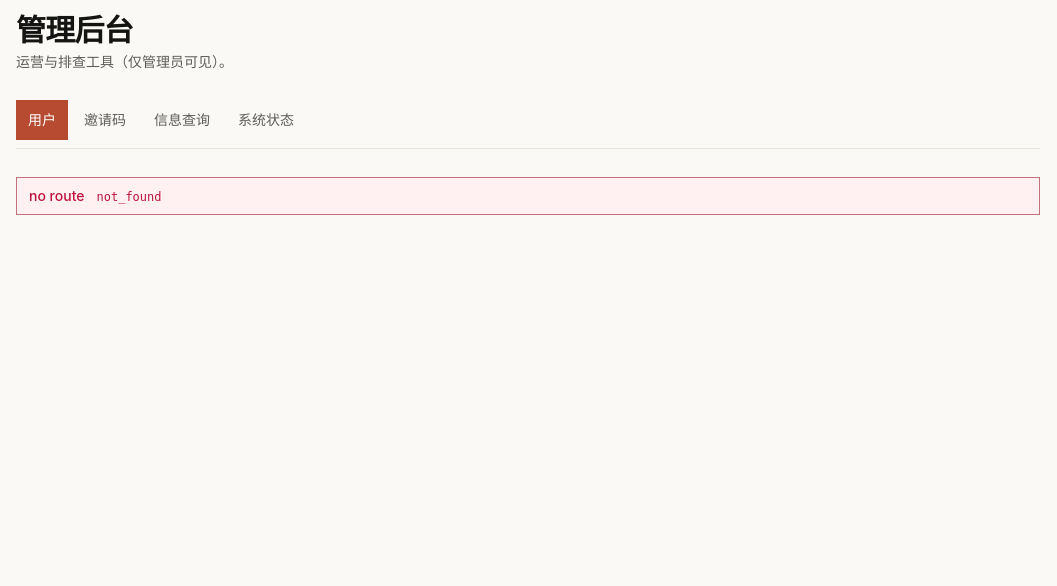
Test: 管理员后台（TASK-110 §1.6 改版） › 读不到主机内存时如实说明原因（不显示 0）
Click the button "系统状态": (266, 120) left=226, top=100, right=306, bottom=140
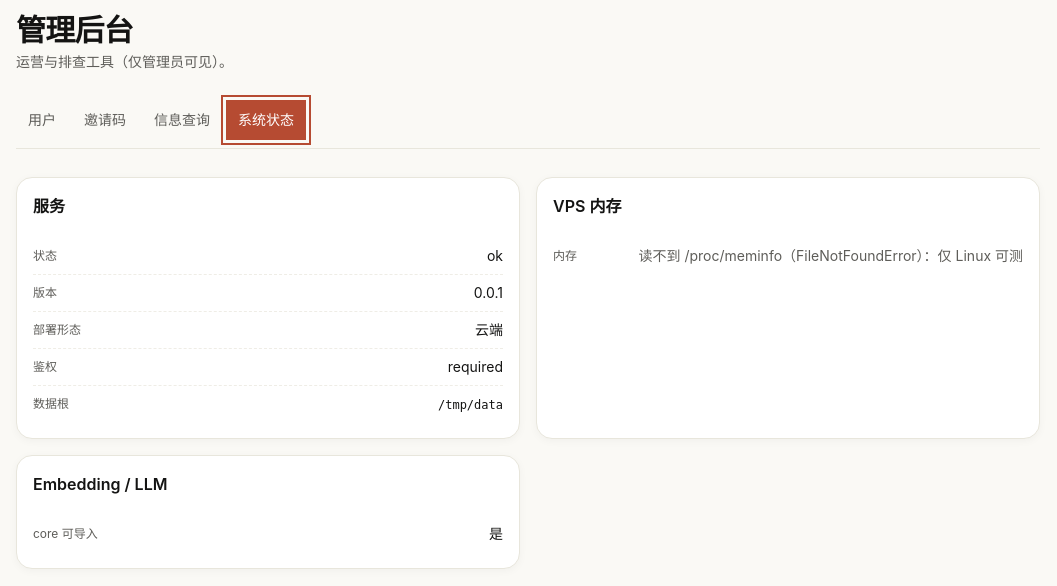
Check: the text "读不到 /proc/meminfo（FileNotFoundError）：仅 Linux 可测" is shown, box left=638, top=247, right=1023, bottom=264
